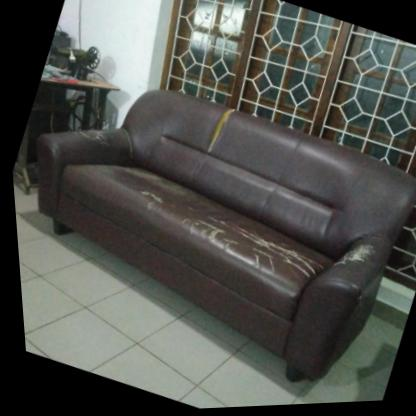Sofa: (3, 40, 416, 415)
